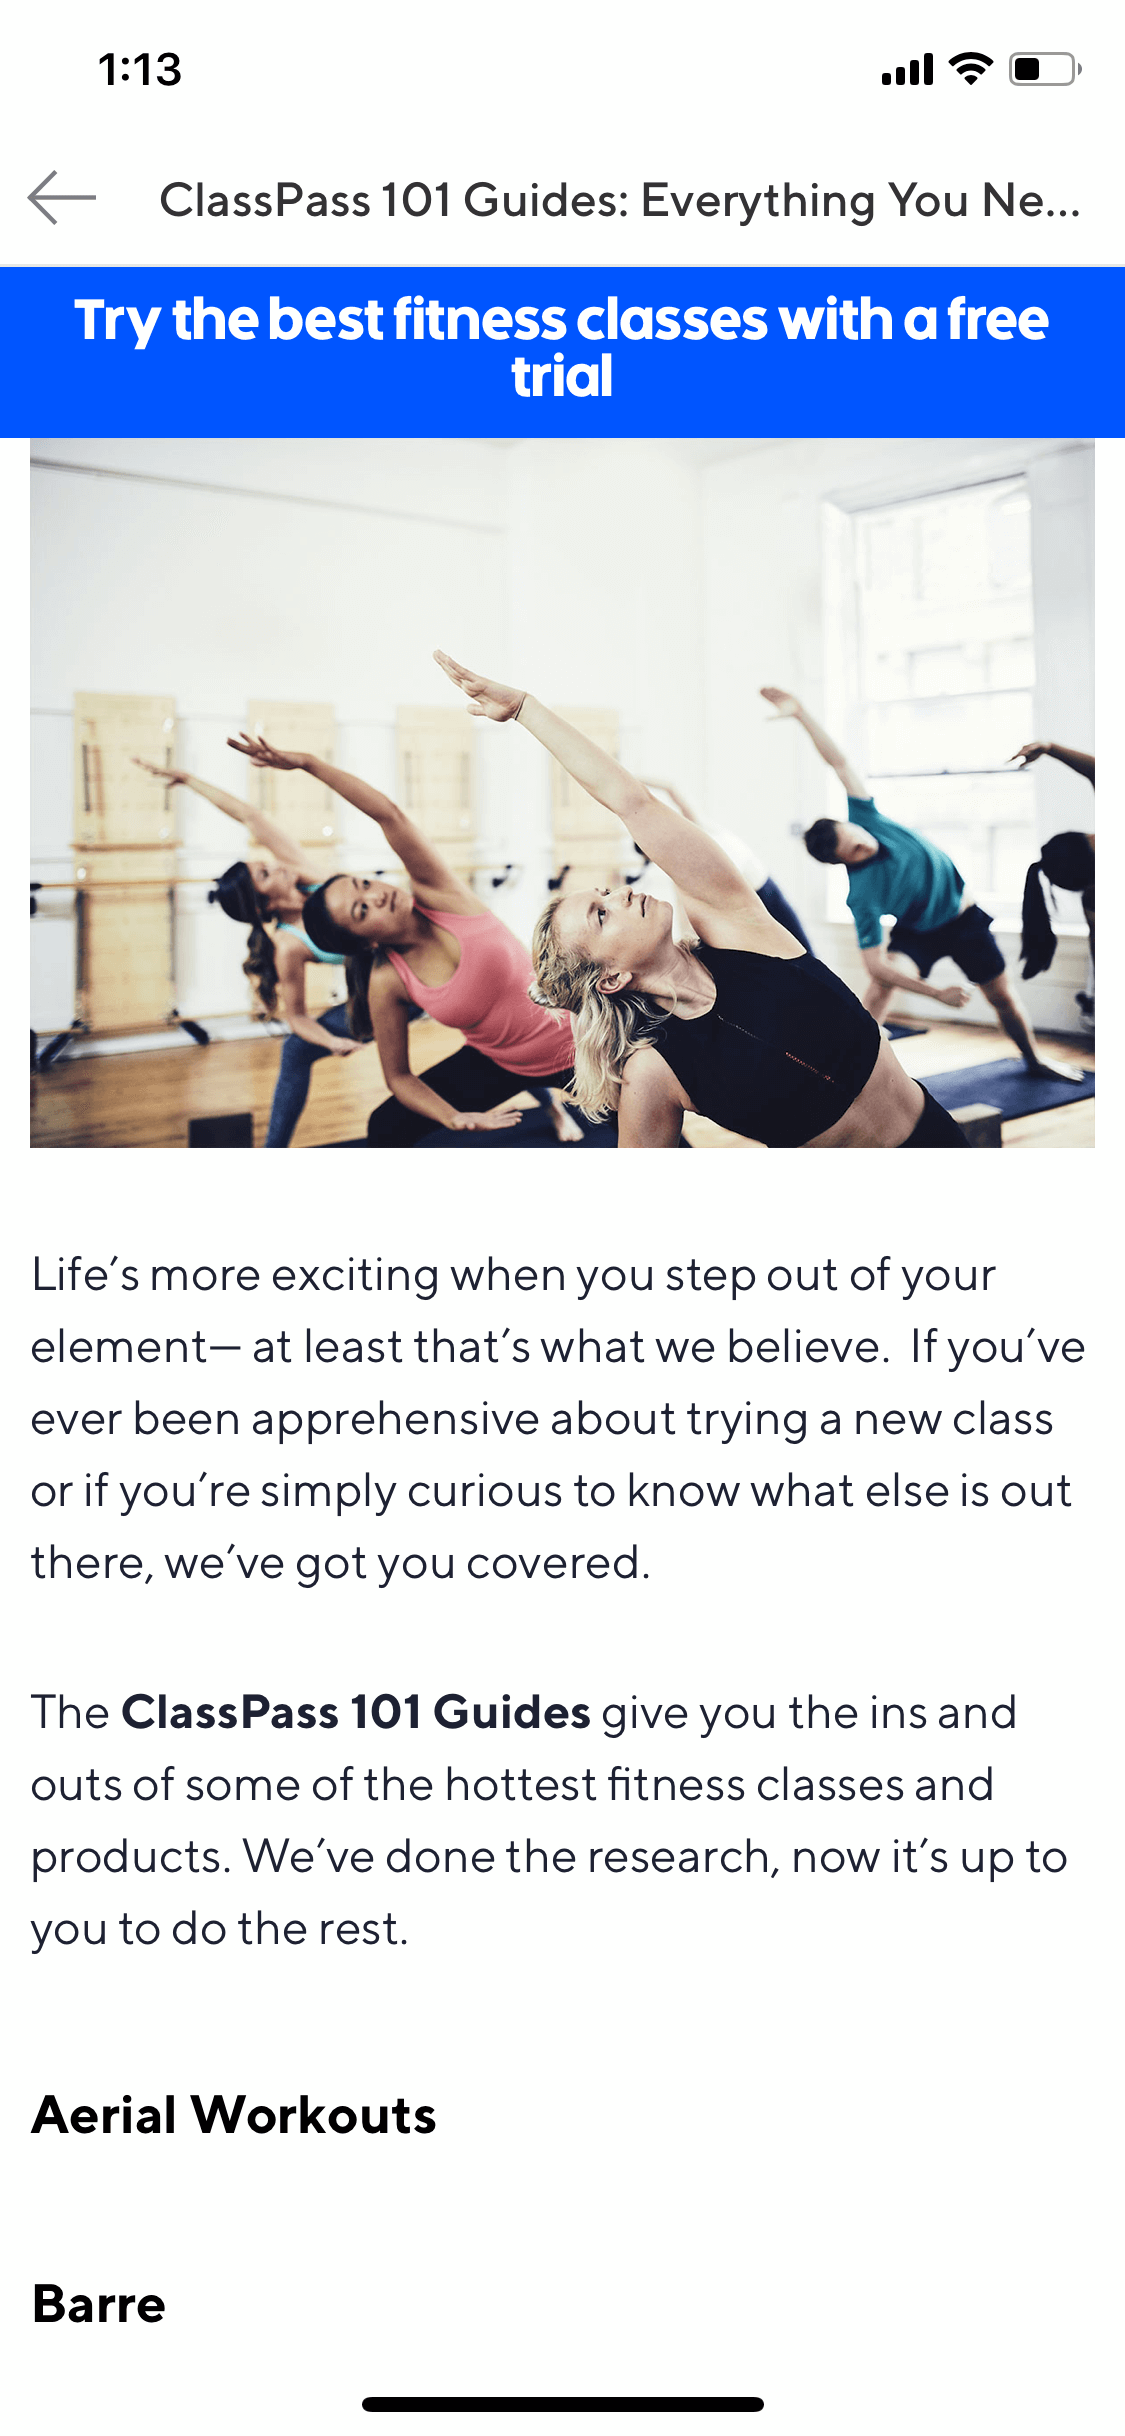Buttons: (2, 103, 137, 256)
